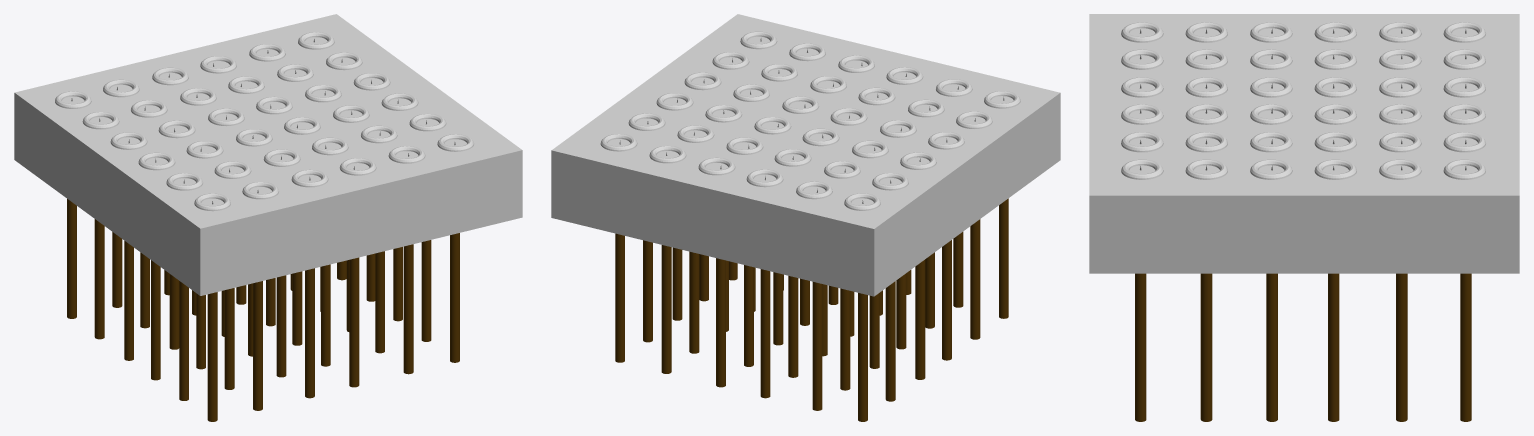
Rendered from spikeTrap.fbx.
3 views of the same model, side by side, from view 1: azimuth 30°, elevation 25°; view 2: azimuth 150°, elevation 25°; view 3: azimuth 270°, elevation 25° (orthographic). The views are drawn at different scales.
Parts seen in each view (by area): view 1: FalseFloor, Spikes; view 2: FalseFloor, Spikes; view 3: FalseFloor, Spikes.
Boxes of the visible parts, bbox=[...] form: FalseFloor: bbox=[14, 14, 522, 295]; Spikes: bbox=[67, 39, 459, 421]; FalseFloor: bbox=[551, 14, 1060, 296]; Spikes: bbox=[615, 38, 1008, 421]; FalseFloor: bbox=[1089, 14, 1519, 273]; Spikes: bbox=[1135, 29, 1471, 421].
Bounding box in the file's own units: 500 × 326 × 500.
